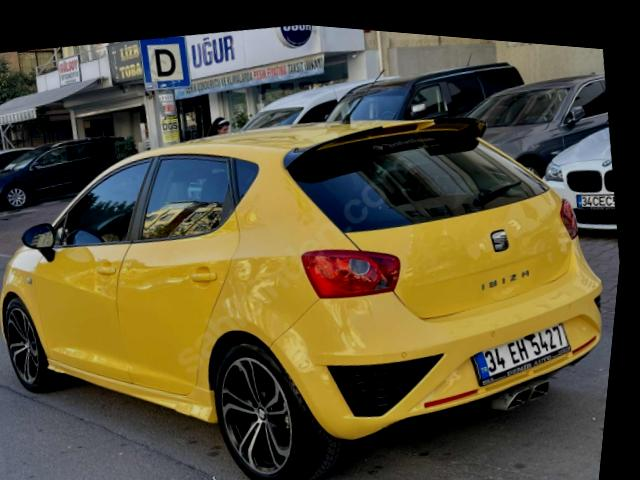plaka: (473, 324, 570, 385), (577, 194, 615, 209)
